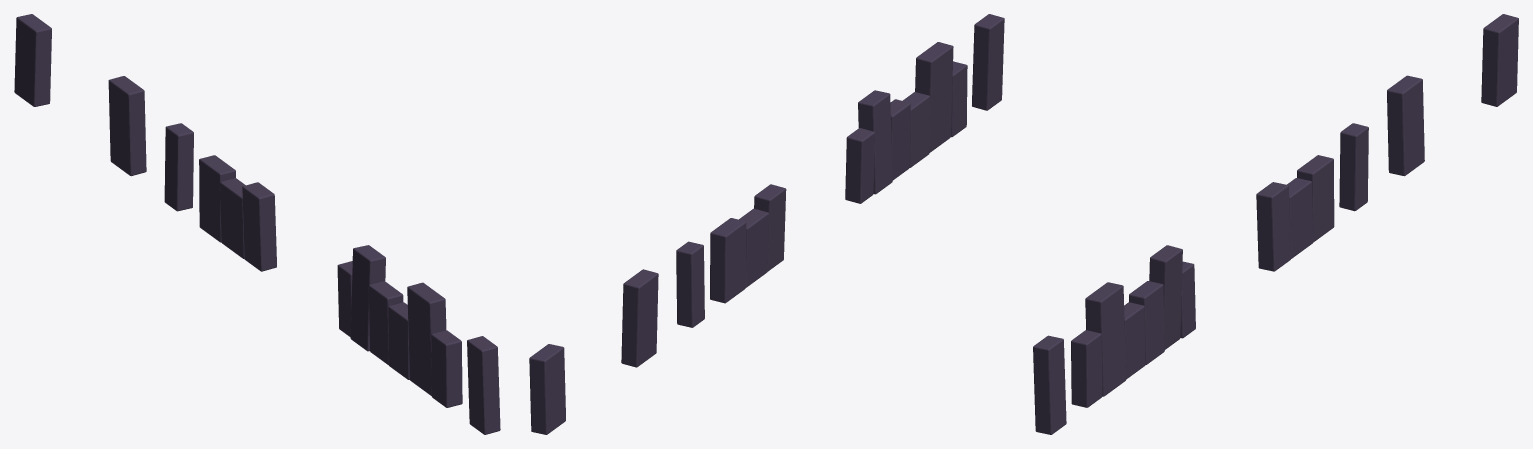
The model's file is WallsW_StoneDark.fbx.
The picture shows the model from 3 angles, left to right: view 1: azimuth 30°, elevation 25°; view 2: azimuth 150°, elevation 25°; view 3: azimuth 330°, elevation 25°; orthographic projection. The views are drawn at different scales.
Parts seen in each view (by area): view 1: WallBlock1_-10.001; view 2: WallBlock1_-10.001; view 3: WallBlock1_-10.001.
Boxes of the visible parts, <box> form: WallBlock1_-10.001: <box>14,14,500,434</box>; WallBlock1_-10.001: <box>529,14,1004,434</box>; WallBlock1_-10.001: <box>1033,14,1518,434</box>.
Size of the model in its own units: 523 by 2490 by 22139.
